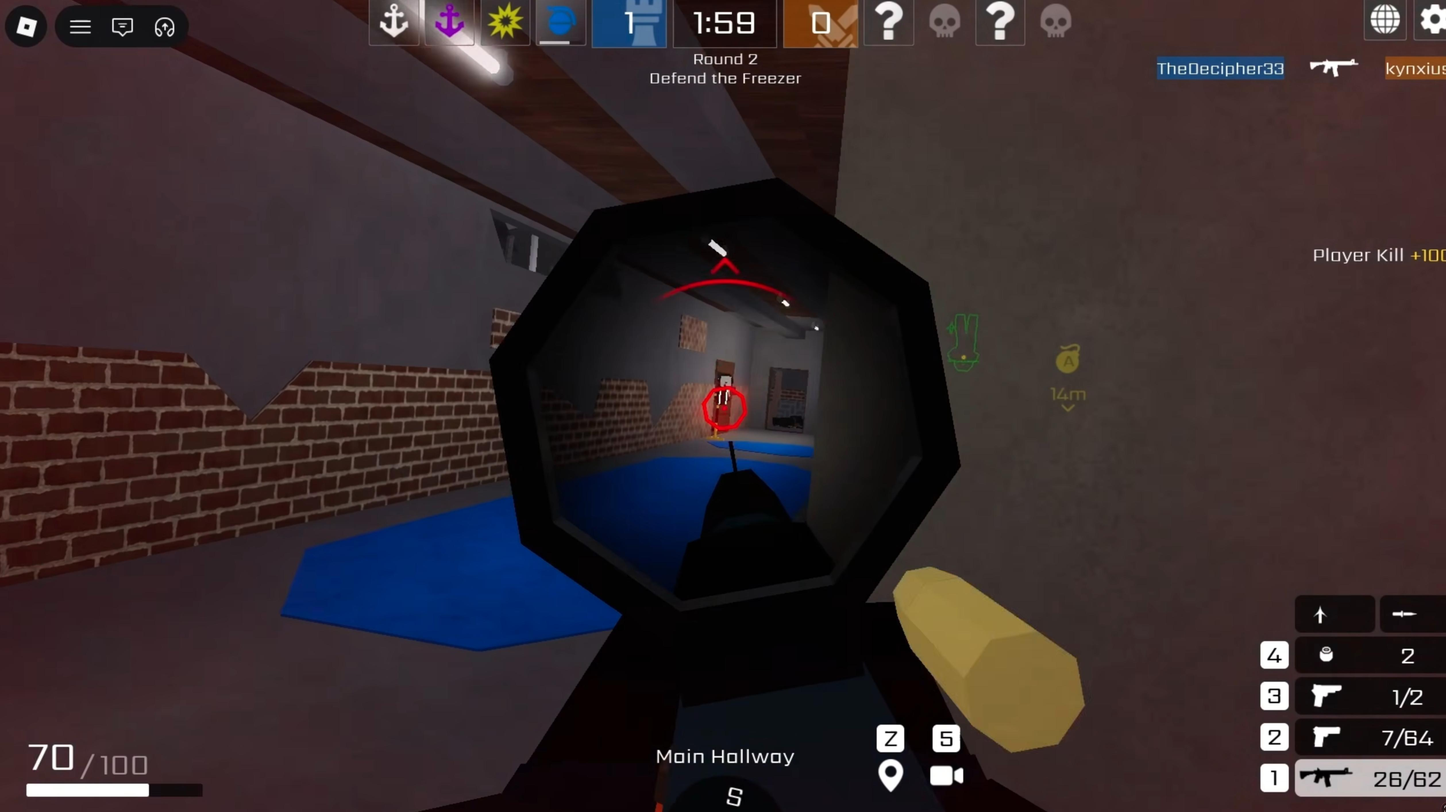enemy: (713, 369, 732, 430)
